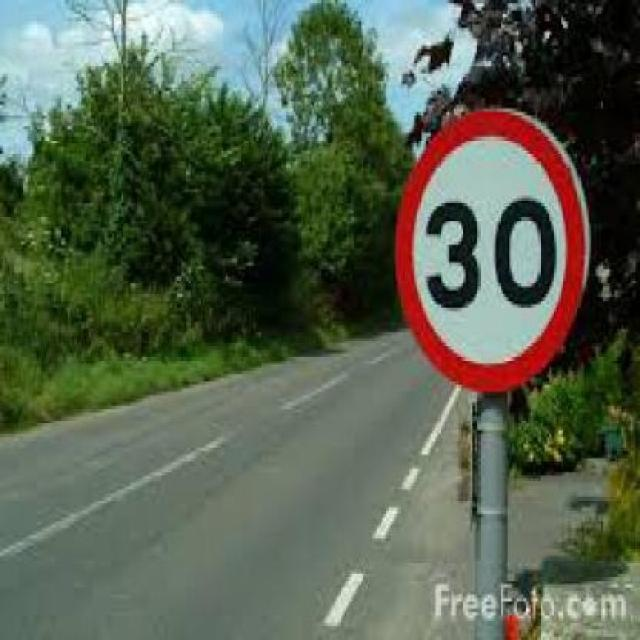forb_speed_over_30: (393, 109, 584, 400)
